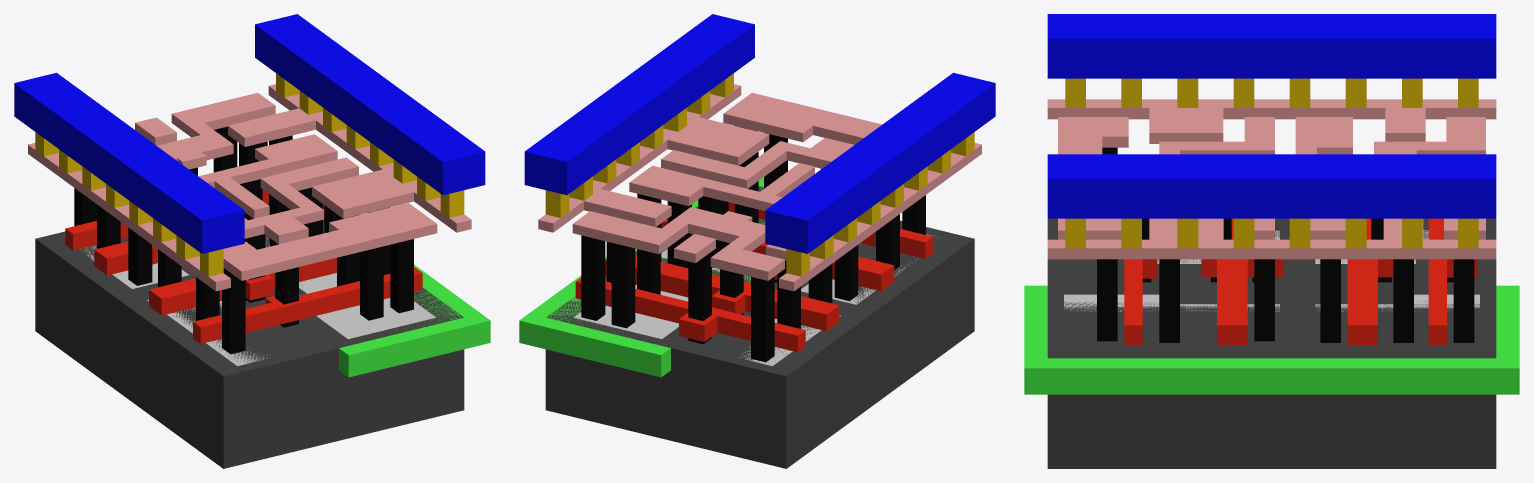
The model's file is sky130_fd_sc_hd__clkdlybuf4s25_1.obj.
The picture shows the model from 3 angles, left to right: view 1: azimuth 30°, elevation 25°; view 2: azimuth 150°, elevation 25°; view 3: azimuth 270°, elevation 25°; orthographic projection. The views are drawn at different scales.
Visible parts, largest first — view 1: subs, metal1, li, licon, poly, nwell, mcon, tap, diff; view 2: subs, metal1, li, licon, poly, nwell, mcon, tap, diff; view 3: subs, metal1, li, nwell, licon, poly, mcon, tap.
Boxes of the visible parts, x1,y1,x2,y2 form: subs: [35, 203, 464, 468]; metal1: [14, 14, 485, 253]; li: [28, 84, 471, 291]; licon: [74, 126, 413, 354]; poly: [65, 189, 422, 343]; nwell: [267, 225, 490, 377]; mcon: [35, 73, 464, 276]; tap: [266, 237, 435, 338]; diff: [84, 245, 267, 365]; subs: [545, 186, 974, 468]; metal1: [524, 14, 995, 253]; li: [538, 84, 981, 291]; licon: [581, 125, 925, 362]; poly: [575, 202, 932, 352]; nwell: [519, 177, 764, 377]; mcon: [545, 73, 974, 276]; tap: [574, 223, 763, 338]; diff: [738, 234, 938, 365]; subs: [1047, 218, 1496, 468]; metal1: [1047, 14, 1496, 218]; li: [1047, 99, 1496, 259]; nwell: [1024, 285, 1519, 394]; licon: [1097, 147, 1474, 342]; poly: [1124, 218, 1477, 345]; mcon: [1065, 78, 1478, 248]; tap: [1064, 294, 1479, 311].
Size of the model in its own units: 3.2 by 2.74 by 4.06.
